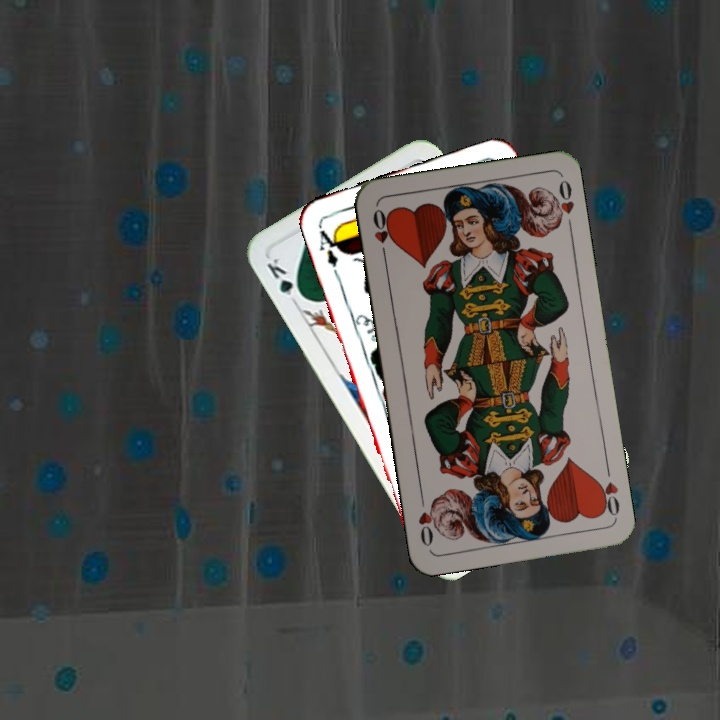EA: (315, 225, 345, 270)
GK: (262, 253, 307, 302)
HO: (593, 462, 622, 521), (369, 205, 395, 263)
